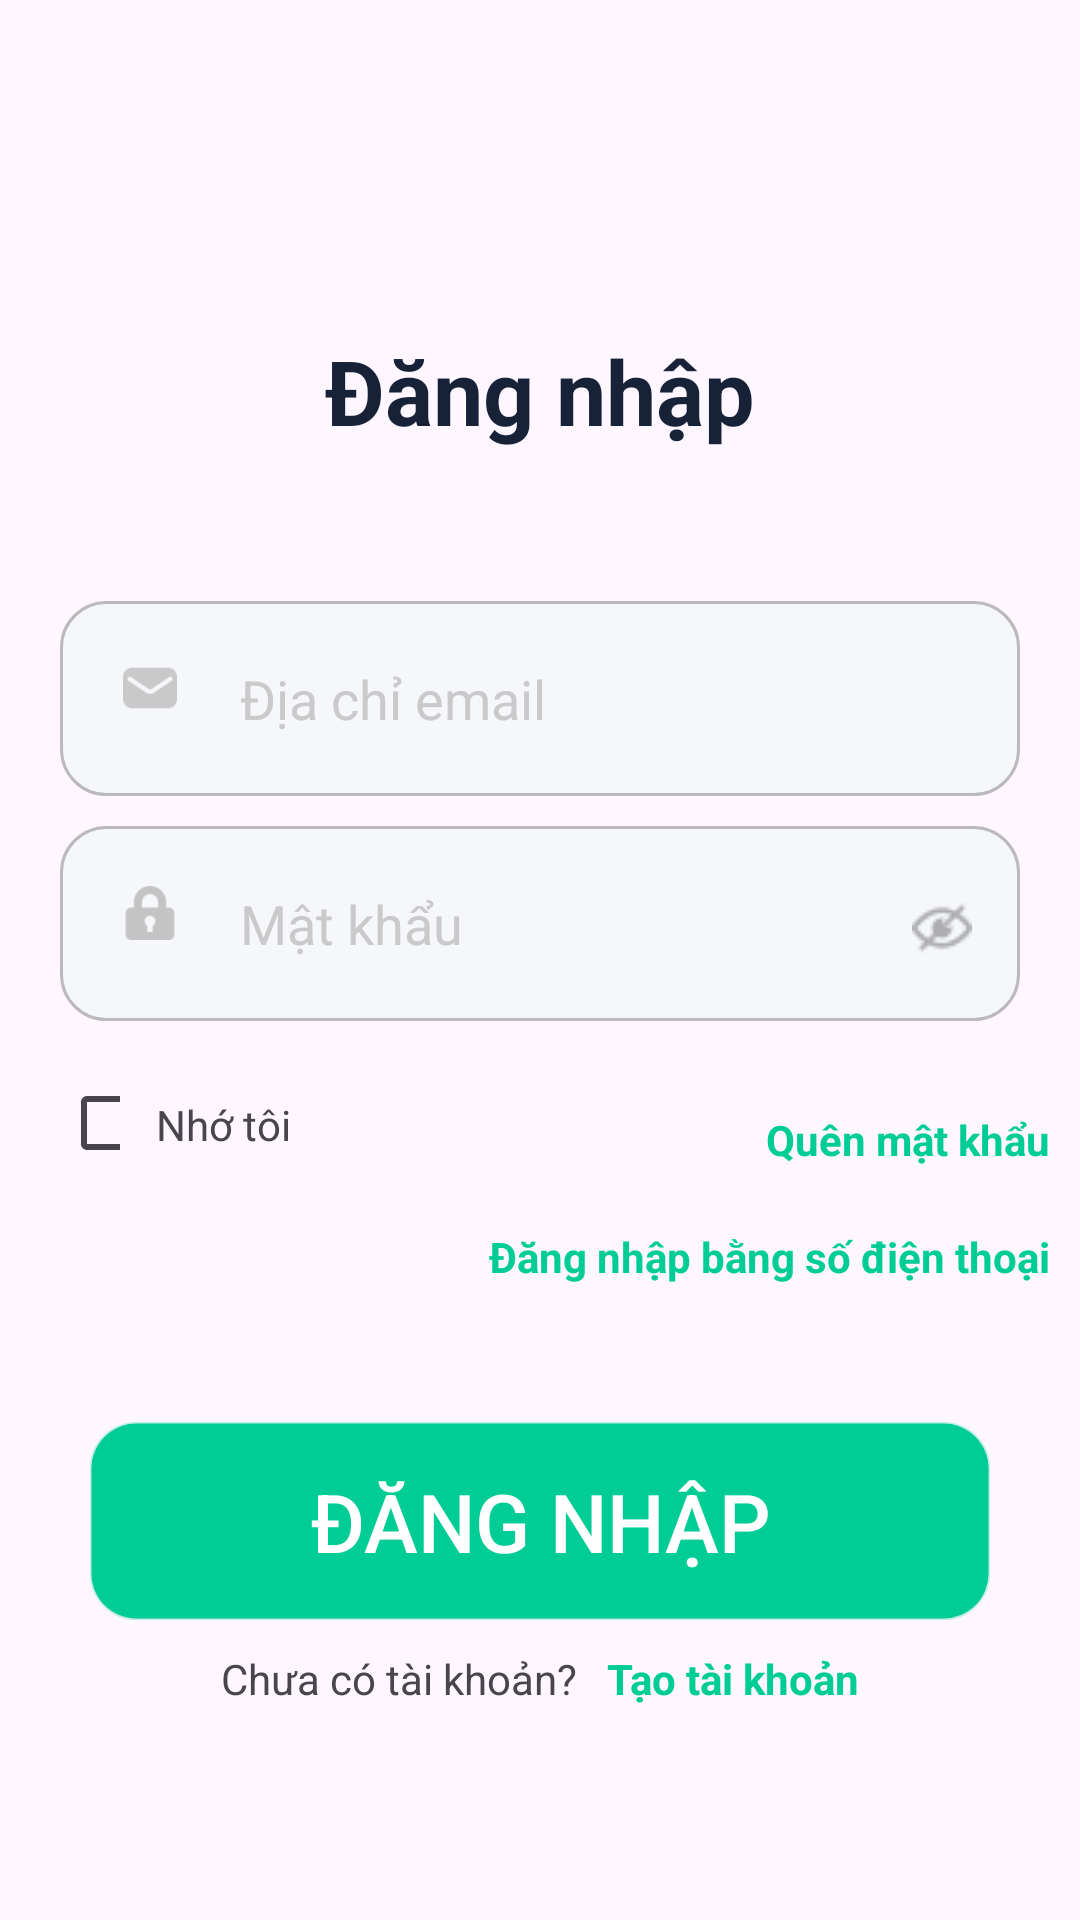

Icons on this 1080 × 1920 Android screen, each with the point to tap as [x,y]:
lock: [150,913]
Toggle Password Visibility: [942,928]
